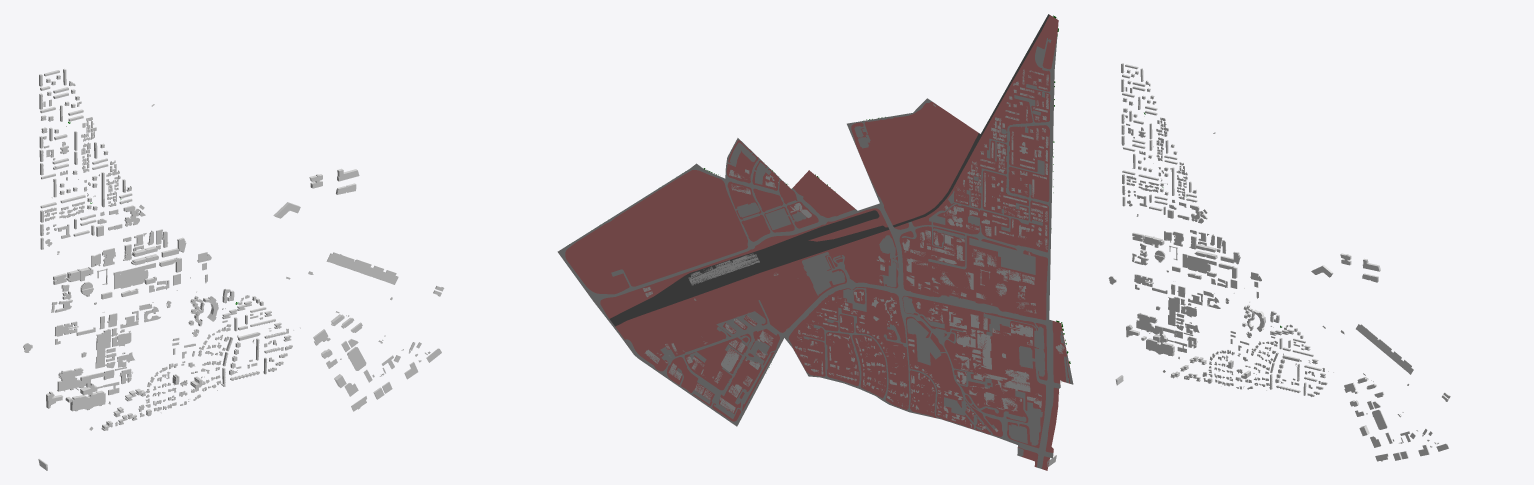
Rendered from innovation_district.glb.
The picture shows the model from 3 angles, left to right: view 1: azimuth 30°, elevation 25°; view 2: azimuth 150°, elevation 25°; view 3: azimuth 330°, elevation 25°; orthographic projection. The views are drawn at different scales.
Visible parts, largest first — view 1: existing_buildings; view 2: ground, street, existing_buildings, train_tracks; view 3: existing_buildings.
Boxes of the visible parts, box(x1,y1,x2,y2) form: existing_buildings: box(23, 68, 444, 470); ground: box(565, 15, 1070, 470); street: box(557, 34, 1073, 468); existing_buildings: box(643, 69, 1064, 466); train_tracks: box(609, 14, 1049, 326); existing_buildings: box(1108, 63, 1450, 461).
Bounding box in the file's own units: 2538 × 2297 × 63.01.
